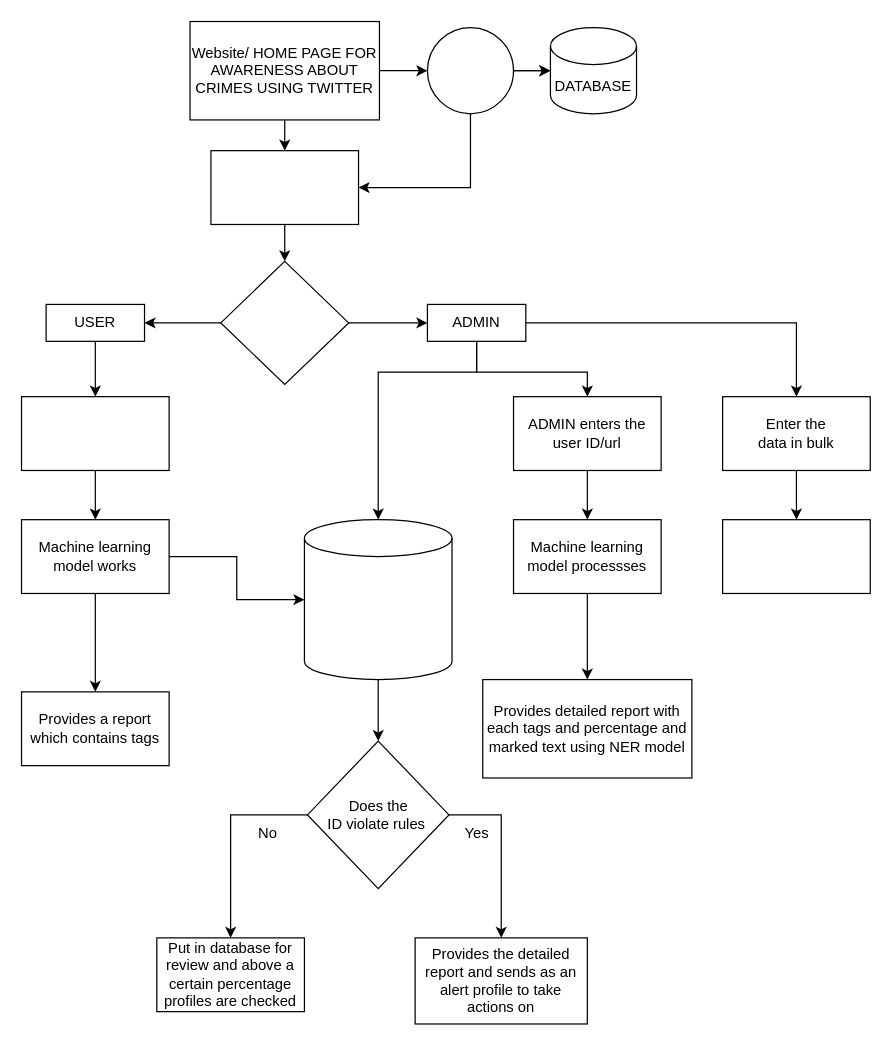
The diagram is 892 pixels wide and 1046 high, and some of its shapes have lost their labels. Each missing label, with the centre of its shape:
Choose your roles: point (284, 322)
Creates report for all the given profiles: point (795, 555)
Login: point (284, 186)
Marks the tags and percentage according to the main model: point (377, 599)
signup: point (470, 70)
User Searches the account and selects tags to report: point (94, 432)
